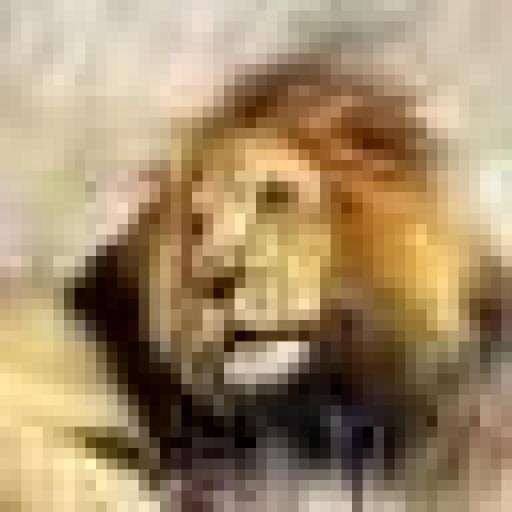Lion: (53, 42, 501, 502)
